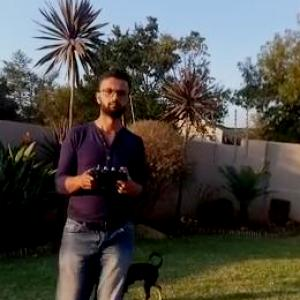follow: (48, 62, 146, 299)
null: (127, 249, 167, 299)
